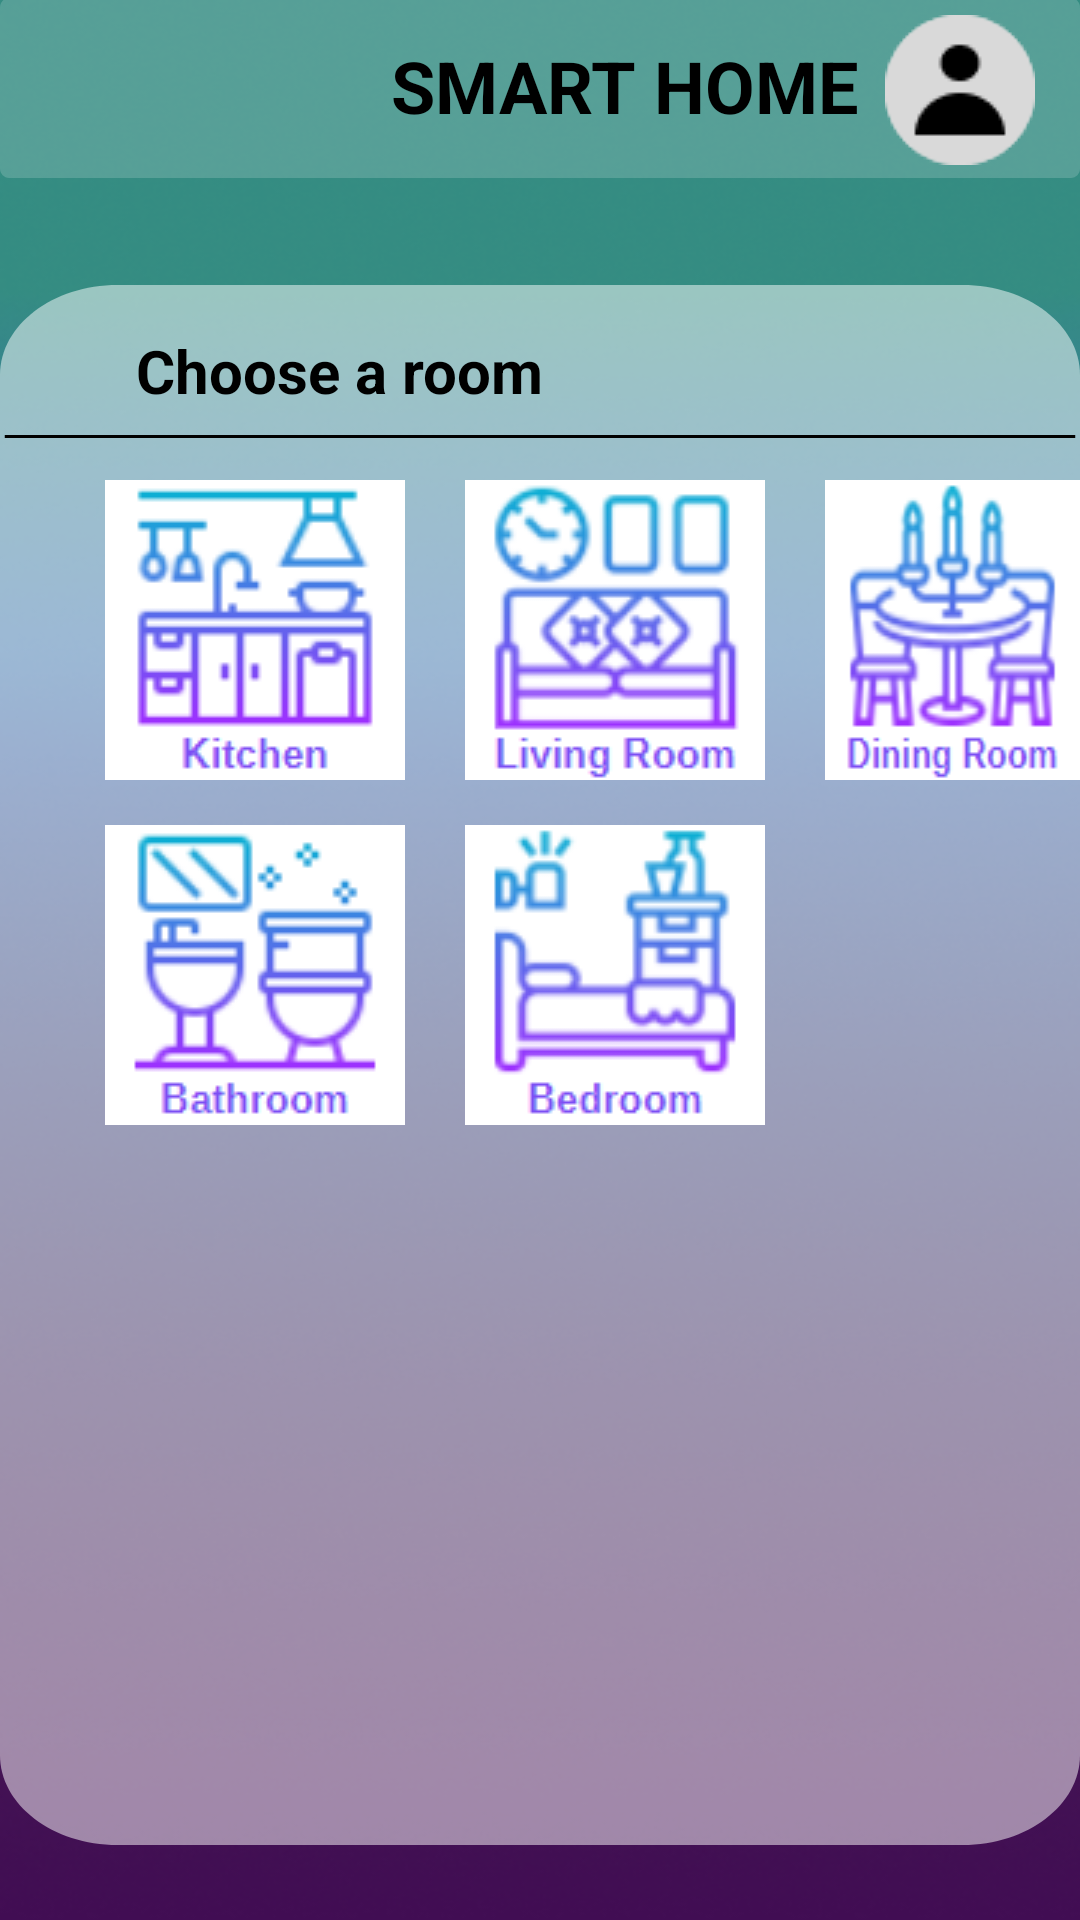

Named icons in this screenshot (1080w x 1920h) and their centers, (x=x, y=y):
user: (x=960, y=90)
